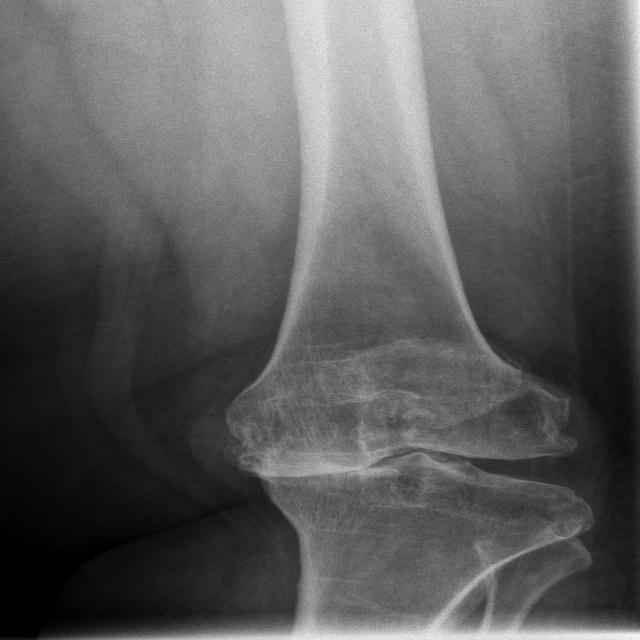Knee: (218, 319, 596, 569)
